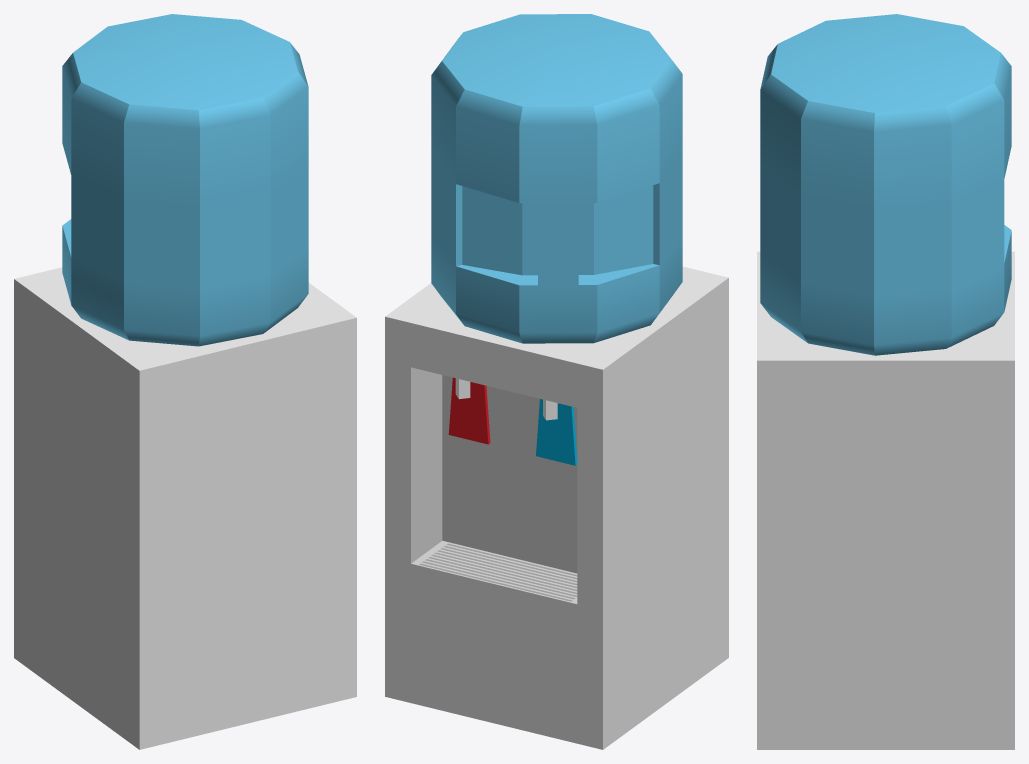
The model's file is WaterCoolerTextured_v1.fbx.
3 renders of one model, left to right at view 1: azimuth 30°, elevation 25°; view 2: azimuth 150°, elevation 25°; view 3: azimuth 270°, elevation 25°, orthographic. The views are drawn at different scales.
Parts seen in each view (by area): view 1: WaterDispenser; view 2: WaterDispenser; view 3: WaterDispenser.
Boxes of the visible parts, <box> form: WaterDispenser: <box>14,14,356,749</box>; WaterDispenser: <box>385,14,728,749</box>; WaterDispenser: <box>757,14,1014,749</box>.
Size of the model in its own units: 1.5 by 4.12 by 1.5.
